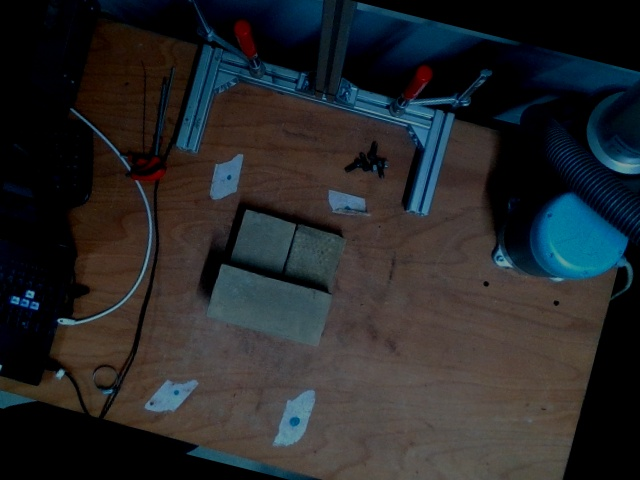brick: (205, 264, 333, 347)
